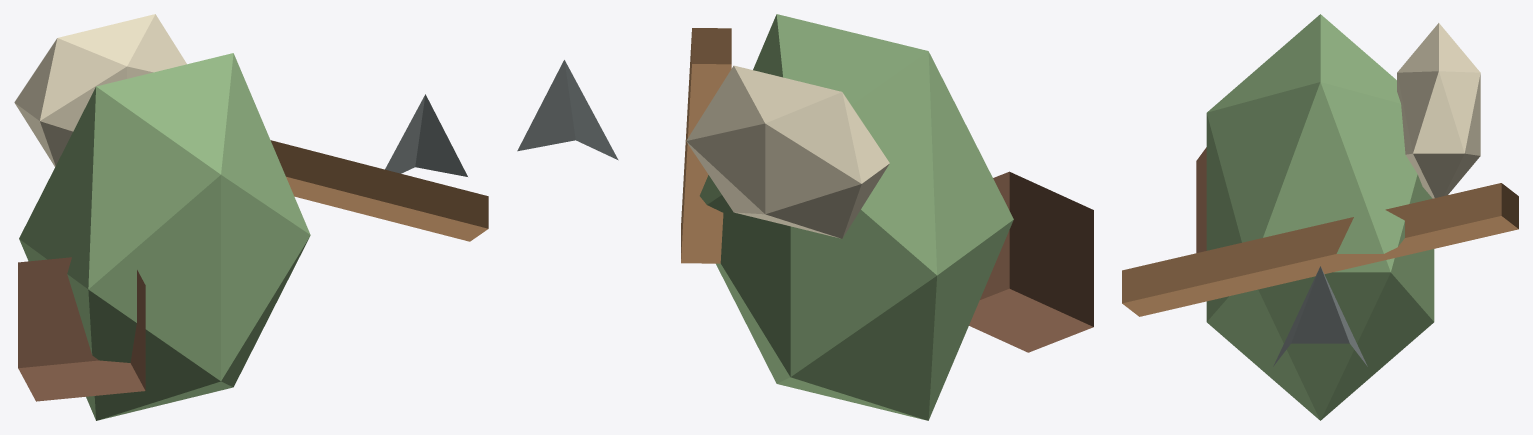
Rendered from enemy_scout.glb.
The picture shows the model from 3 angles, left to right: view 1: azimuth 30°, elevation 25°; view 2: azimuth 150°, elevation 25°; view 3: azimuth 270°, elevation 25°; orthographic projection. The views are drawn at different scales.
Parts seen in each view (by area): view 1: body, satchel, mask, spear, spear_tip; view 2: body, mask, satchel, spear, spear_tip; view 3: body, spear, mask, spear_tip, satchel.
Boxes of the visible parts, x1,y1,x2,y2 form: body: (19, 53, 310, 420); satchel: (18, 257, 145, 401); mask: (14, 14, 186, 166); spear: (270, 140, 488, 241); spear_tip: (385, 94, 467, 176); body: (699, 14, 1013, 420); mask: (686, 65, 889, 238); satchel: (969, 171, 1093, 352); spear: (681, 28, 731, 263); spear_tip: (517, 60, 618, 160); body: (1206, 14, 1434, 420); spear: (1122, 183, 1518, 316); mask: (1397, 23, 1480, 198); spear_tip: (1273, 266, 1367, 366); satchel: (1196, 147, 1206, 253).
Bounding box in the file's own units: 1.23 × 0.8242 × 0.8721.
